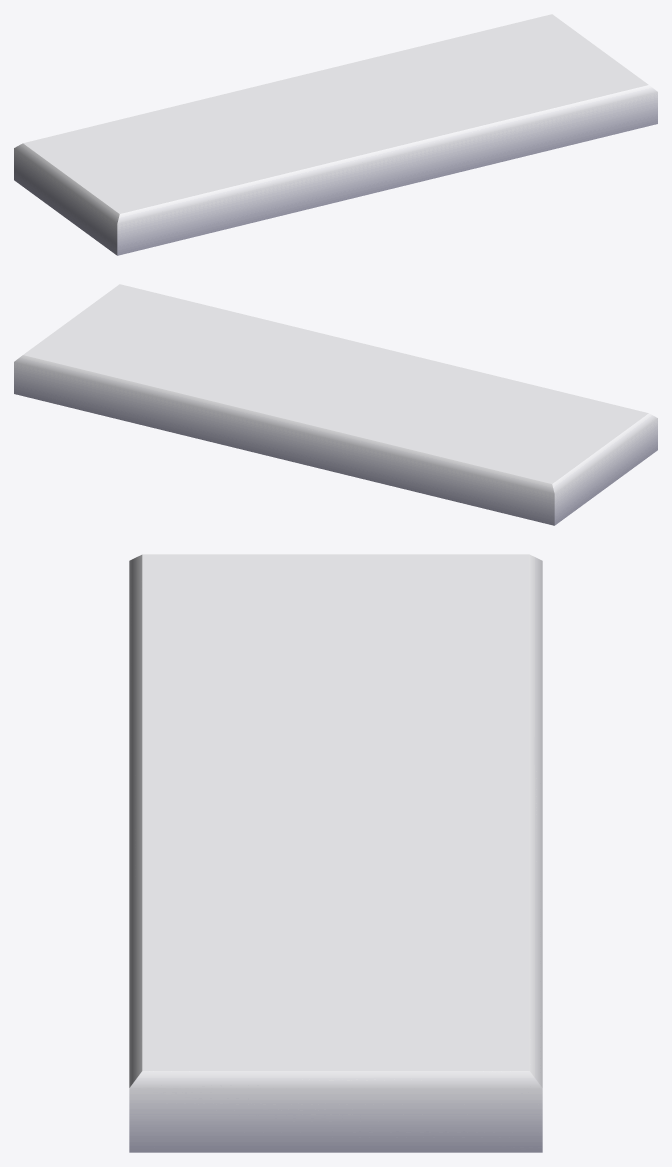
Rendered from brick-kit--none-hq-plate-2x6.glb.
3 views of the same model, one above another, from view 1: azimuth 30°, elevation 25°; view 2: azimuth 150°, elevation 25°; view 3: azimuth 270°, elevation 25° (orthographic). The views are drawn at different scales.
Parts seen in each view (by area): view 1: none-hq-plate-2x6; view 2: none-hq-plate-2x6; view 3: none-hq-plate-2x6.
Boxes of the visible parts, <box> form: none-hq-plate-2x6: <box>14,14,657,255</box>; none-hq-plate-2x6: <box>14,284,657,525</box>; none-hq-plate-2x6: <box>129,554,542,1152</box>.
Size of the model in its own units: 0.477 by 0.032 by 0.158.
Materials: 1 (1 with a texture image).
